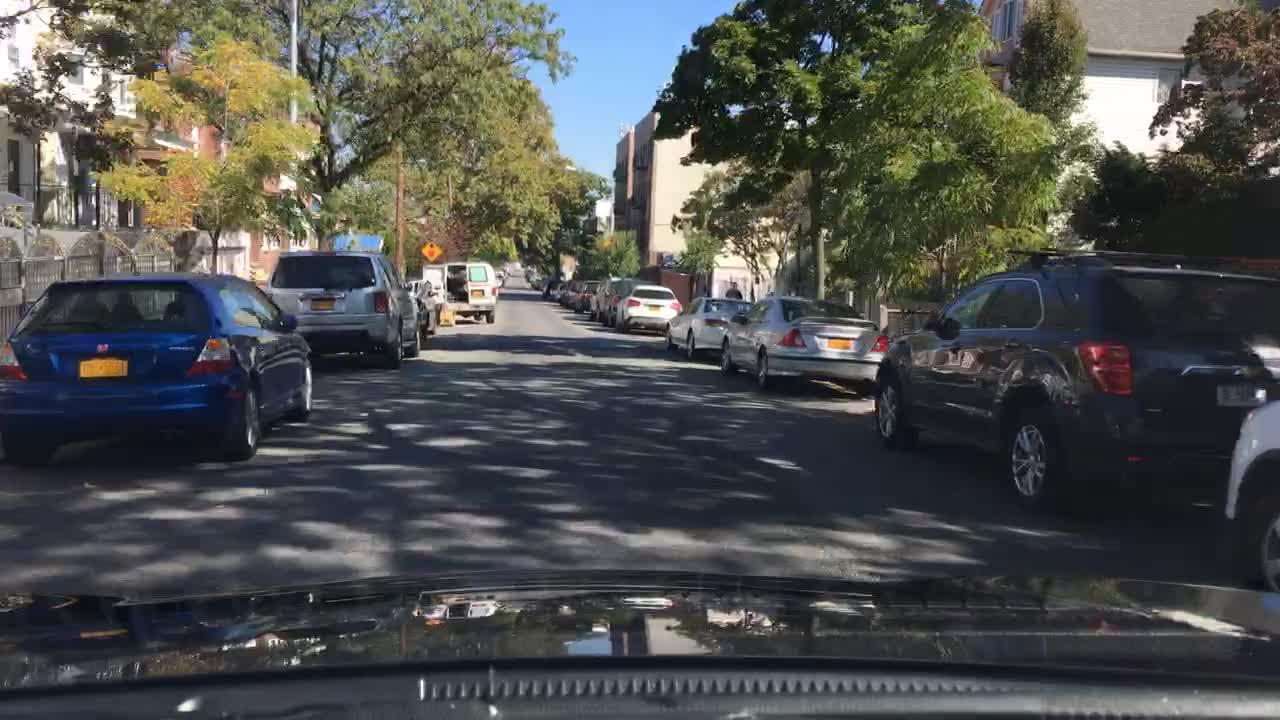car: (871, 246, 1280, 516), (0, 270, 315, 467), (265, 250, 424, 365), (716, 295, 890, 392), (1221, 398, 1280, 591), (662, 295, 754, 362), (615, 284, 676, 332), (604, 278, 656, 329), (411, 278, 447, 336), (589, 279, 616, 326), (575, 278, 604, 310), (563, 281, 583, 307), (541, 279, 558, 298), (555, 279, 566, 303), (530, 276, 546, 289)
person: (728, 279, 742, 304)
traffic sign: (420, 240, 441, 261)
truck: (426, 261, 497, 324)
